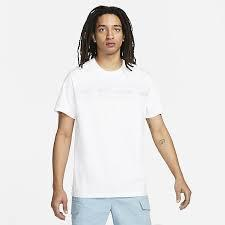Tshirt: (52, 52, 168, 200)
